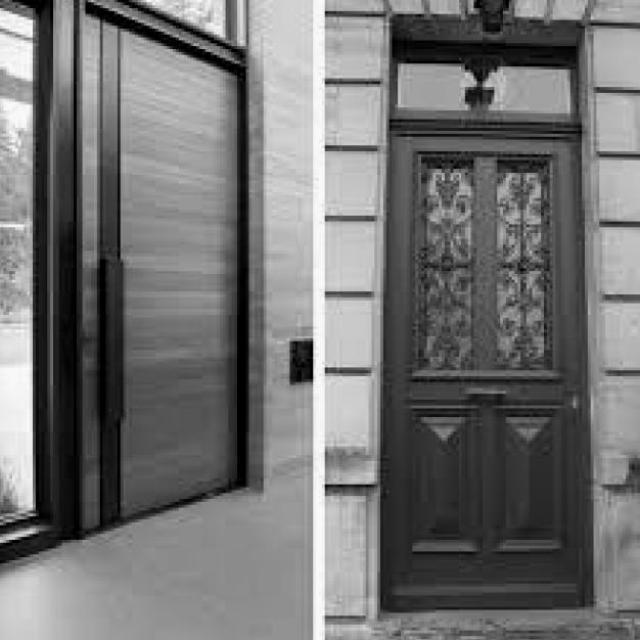door: (380, 128, 590, 611), (78, 8, 252, 514)
